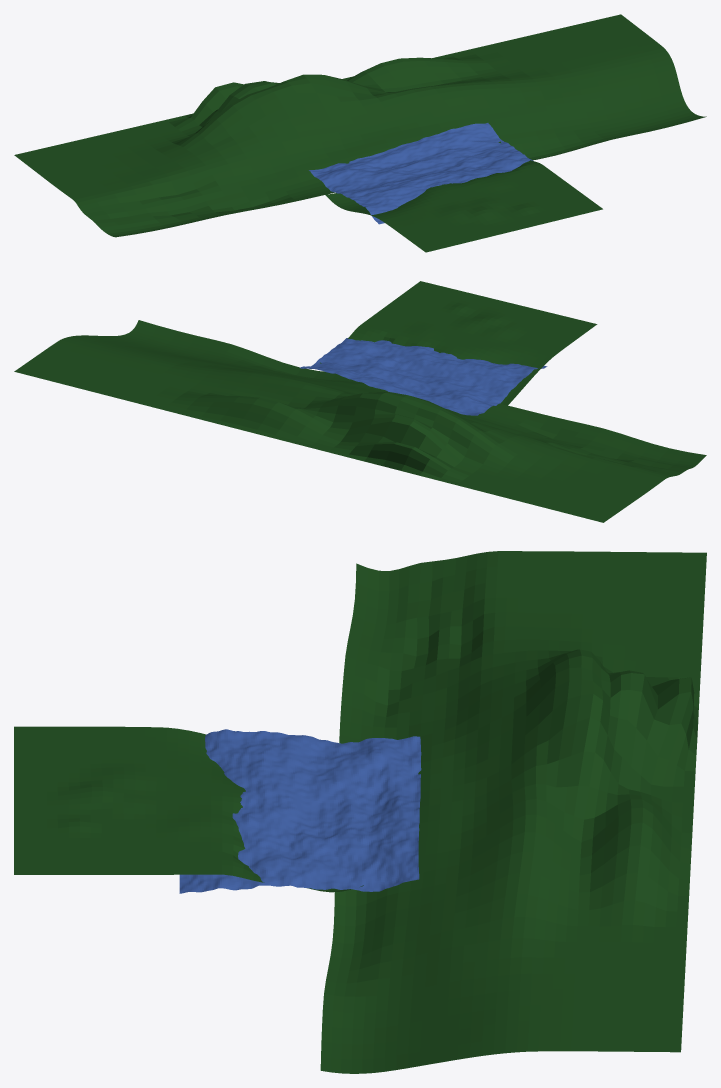
The model's file is Background placeholder.fbx.
3 views of the same model, one above another, from view 1: azimuth 30°, elevation 25°; view 2: azimuth 150°, elevation 25°; view 3: azimuth 270°, elevation 25° (orthographic). The views are drawn at different scales.
Visible parts, largest first — view 1: Grass.002, Grass.001, Water; view 2: Grass.002, Grass.001, Water; view 3: Grass.002, Grass.001, Water.
Boxes of the visible parts, <box> form: Grass.002: <box>14,14,706,237</box>; Grass.001: <box>325,141,602,252</box>; Water: <box>309,123,533,224</box>; Grass.002: <box>14,320,706,522</box>; Grass.001: <box>320,281,597,405</box>; Water: <box>299,338,547,415</box>; Grass.002: <box>320,551,706,1073</box>; Grass.001: <box>14,726,363,892</box>; Water: <box>179,729,421,893</box>.
Size of the model in its own units: 42462 by 4727 by 24763.
